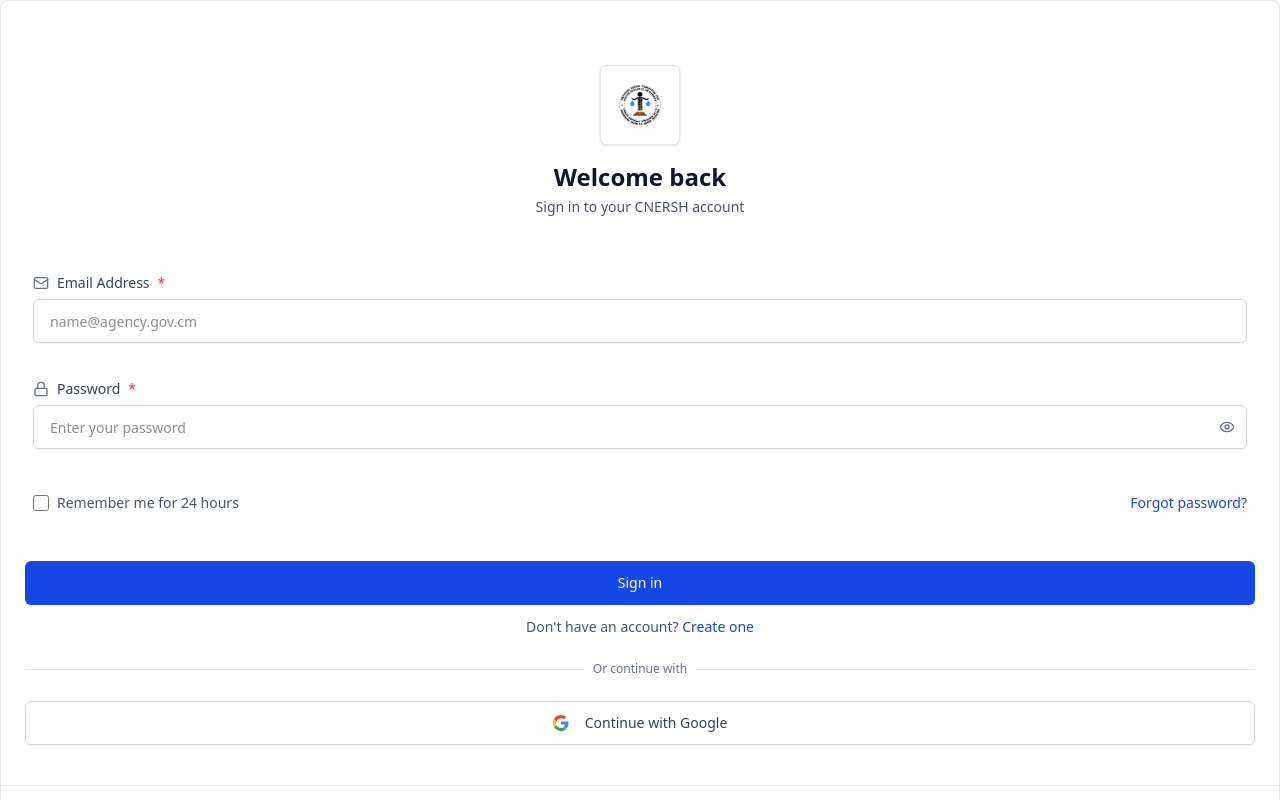
Scenario: SignInForm › shows validation errors when submitted with empty fields
The image size is (1280, 800).
Click the button "Sign in": click(640, 583) [25, 561, 1255, 605]
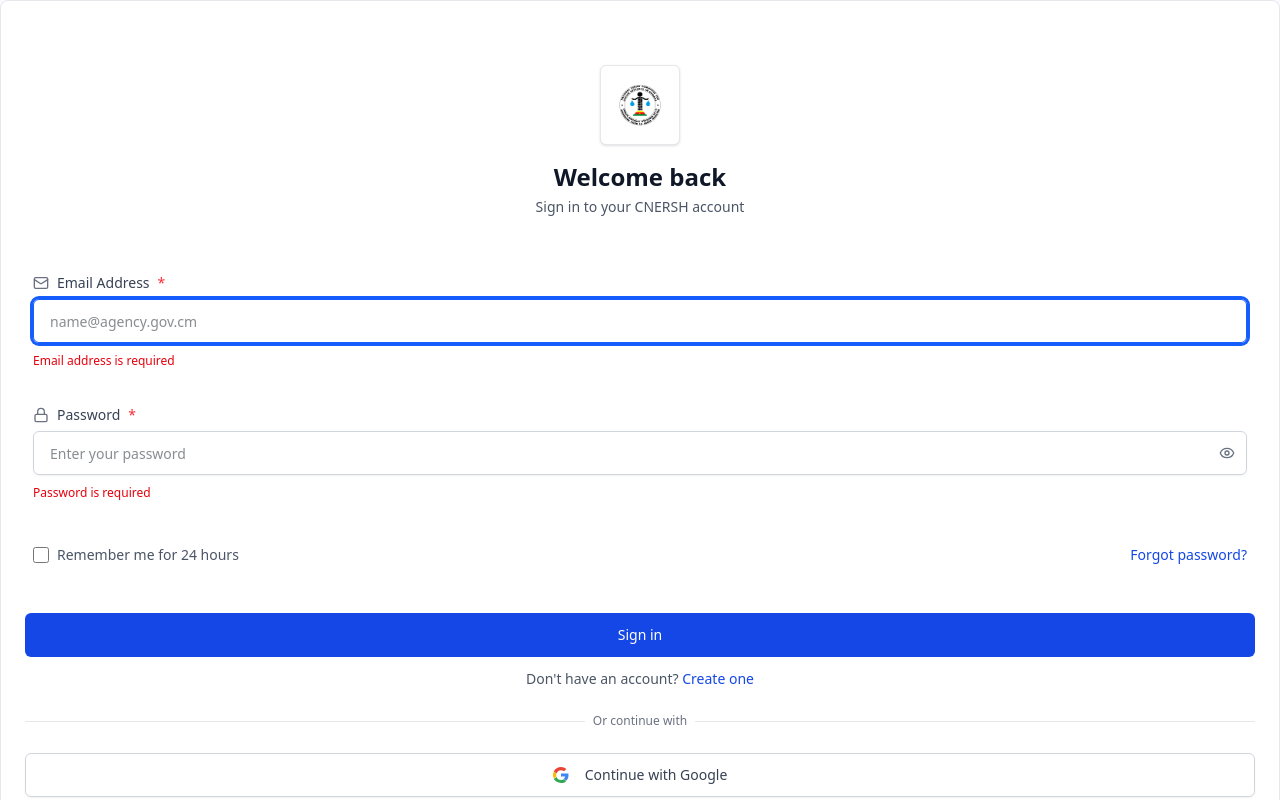
expect the text "Email address is required" is shown: met, box [33, 352, 175, 369]
expect the text "Password is required" is shown: met, box [33, 484, 151, 501]
